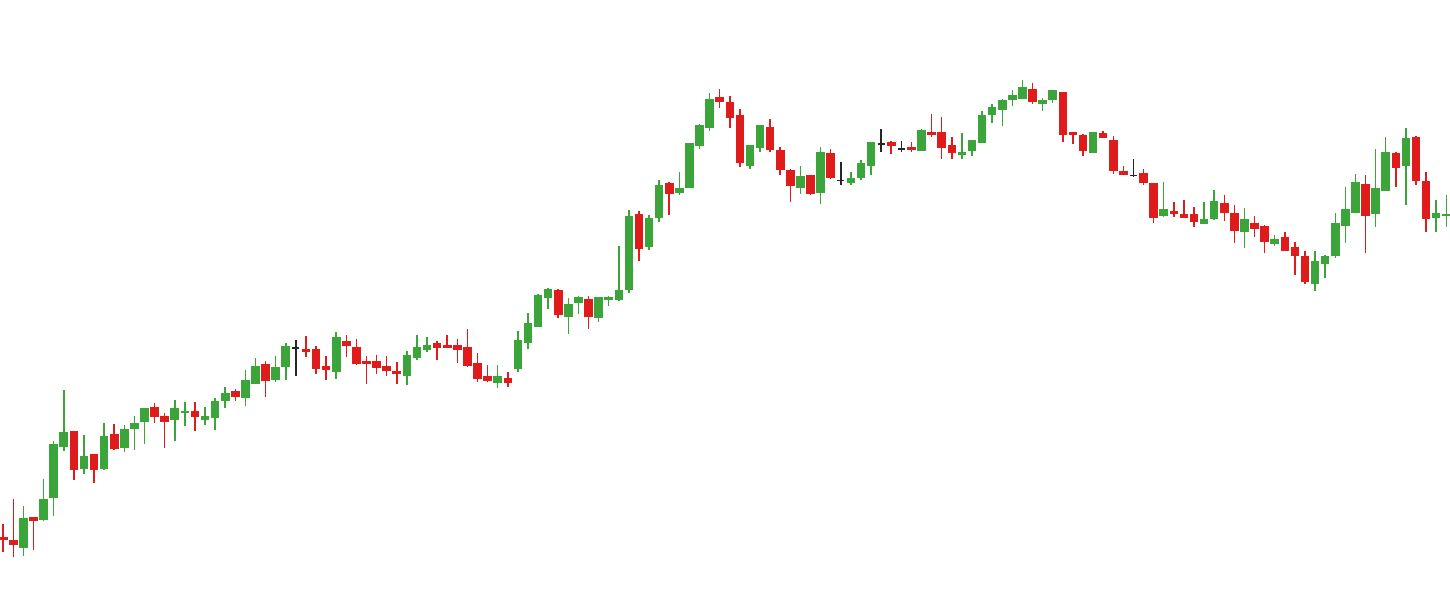buy: (391, 349, 504, 393)
